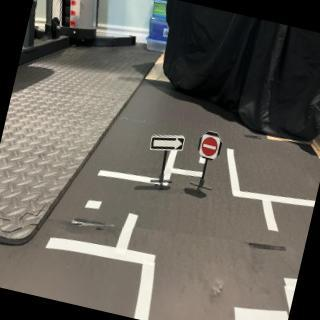sign_noentry: (198, 134, 223, 162)
sign_oneway_right: (148, 129, 187, 158)
